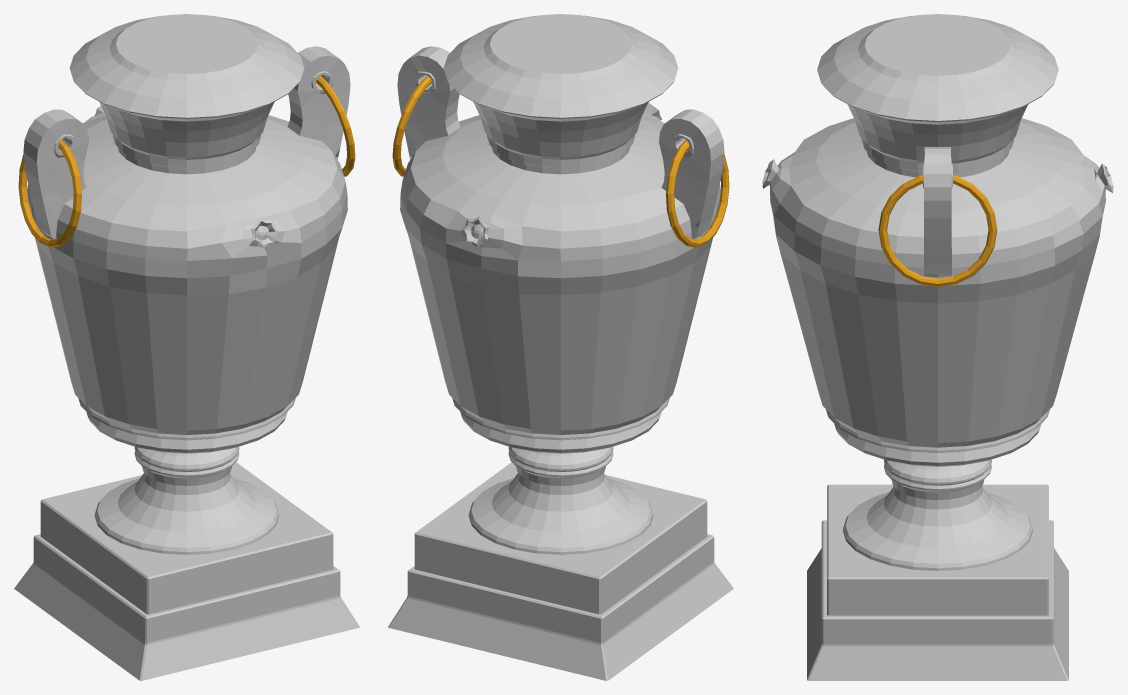
File: urn_diota.obj
3 renders of one model, left to right at view 1: azimuth 30°, elevation 25°; view 2: azimuth 150°, elevation 25°; view 3: azimuth 270°, elevation 25°, orthographic. The views are drawn at different scales.
Visible parts, largest first — view 1: part3_low; view 2: part3_low; view 3: part3_low.
Part boxes in pixels (x1=…): part3_low: x1=14, y1=14, x2=359, y2=680; part3_low: x1=388, y1=14, x2=733, y2=680; part3_low: x1=762, y1=14, x2=1113, y2=680.
Size of the model in its own units: 0.577 by 0.9909 by 0.543.
Materials: 2 (1 with a texture image).
